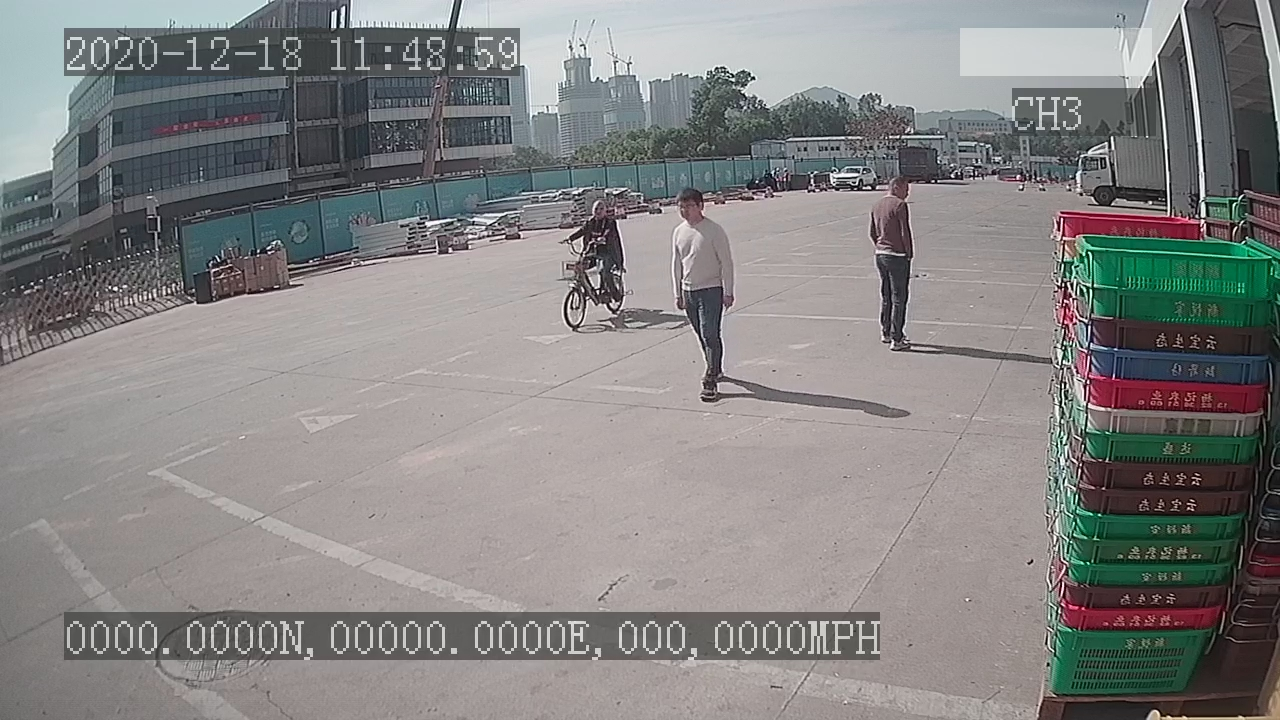person: (667, 185, 738, 404), (867, 174, 918, 353)
